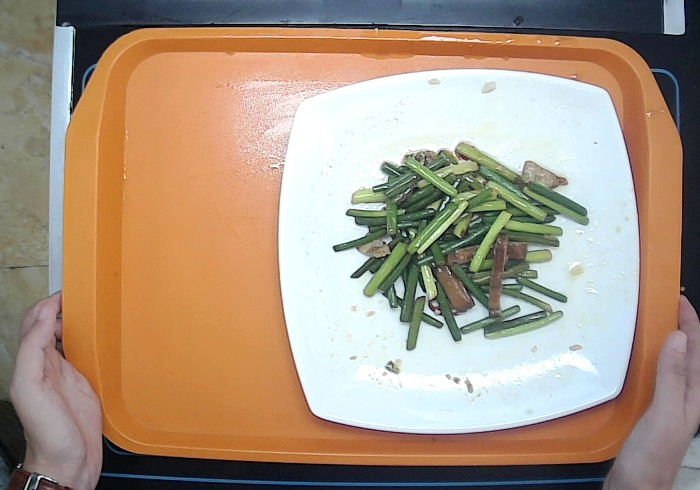ZNLD-Bai_Fang_Pan: (276, 66, 642, 437)
